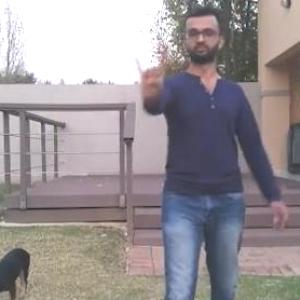takeoff-hand: (128, 41, 168, 101)
